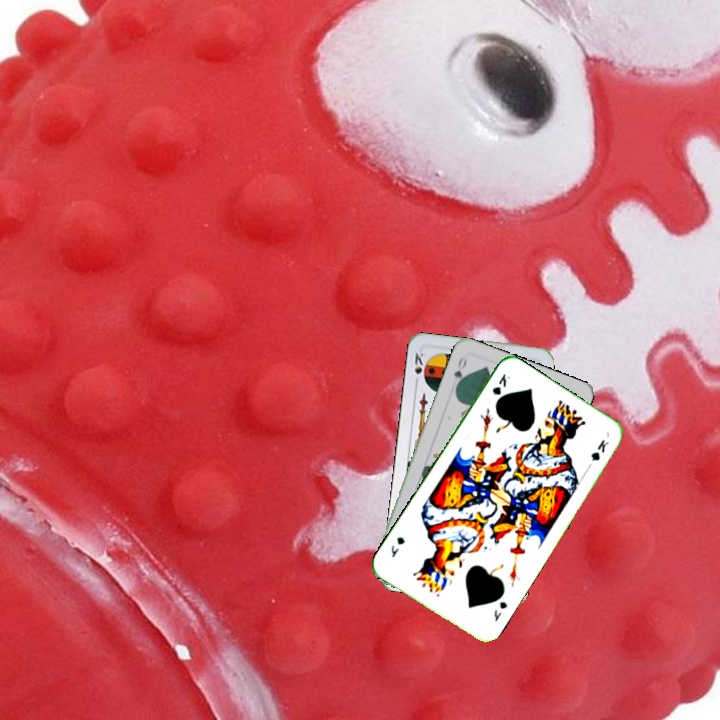GK: (488, 370, 513, 398), (490, 597, 510, 624)
GO: (450, 352, 470, 392)
SK: (410, 349, 426, 388)
